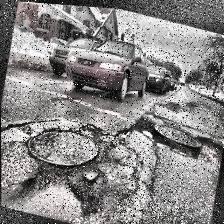pothole: (0, 150, 108, 224), (184, 128, 224, 164), (130, 112, 164, 142)
